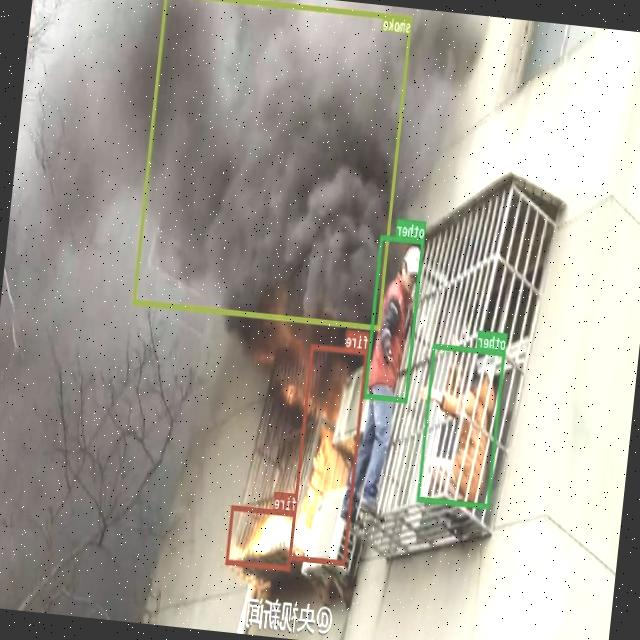fire: (289, 342, 368, 564), (226, 504, 297, 570)
smoke: (132, 0, 413, 328)
